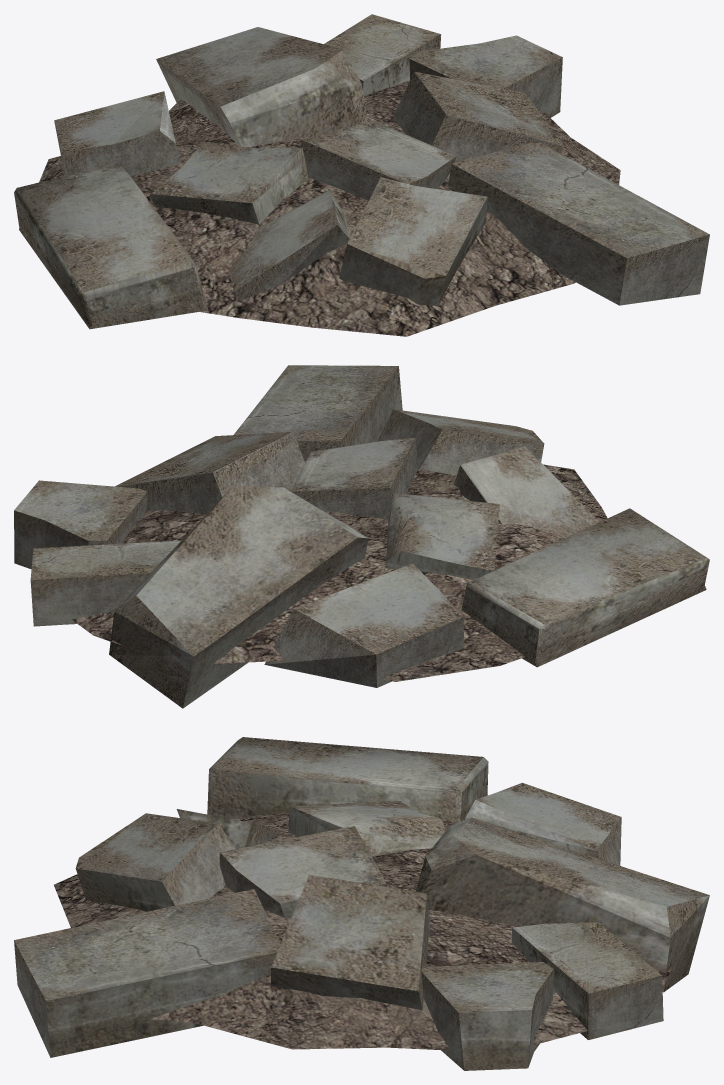
Rendered from bg_lut_lucastle_stair02b_sm_lkj.FBX.
3 views of the same model, one above another, from view 1: azimuth 30°, elevation 25°; view 2: azimuth 150°, elevation 25°; view 3: azimuth 270°, elevation 25° (orthographic). The views are drawn at different scales.
Parts seen in each view (by area): view 1: bg_lut_lucastle_stair02b_sm_lkj; view 2: bg_lut_lucastle_stair02b_sm_lkj; view 3: bg_lut_lucastle_stair02b_sm_lkj.
Boxes of the visible parts, x1=… form: bg_lut_lucastle_stair02b_sm_lkj: x1=14, y1=14, x2=709, y2=336; bg_lut_lucastle_stair02b_sm_lkj: x1=14, y1=365, x2=709, y2=708; bg_lut_lucastle_stair02b_sm_lkj: x1=14, y1=737, x2=709, y2=1070.
Bounding box in the file's own units: 203 × 46.86 × 204.
